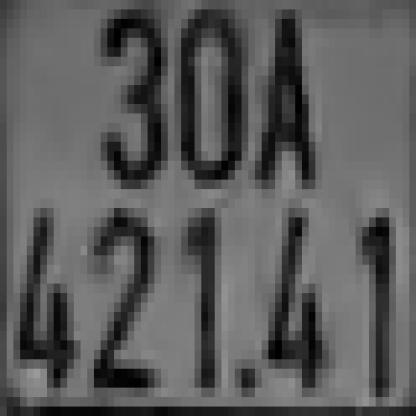0: (181, 10, 235, 189)
1: (168, 208, 228, 388), (342, 208, 396, 388)
2: (94, 208, 154, 388)
3: (101, 19, 168, 189)
4: (255, 208, 322, 378), (13, 208, 80, 378)
A: (249, 19, 316, 189)
